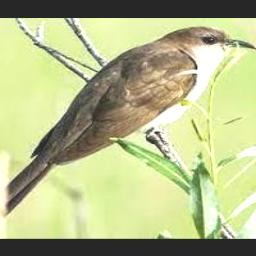Cuckoo: (0, 26, 256, 233)
